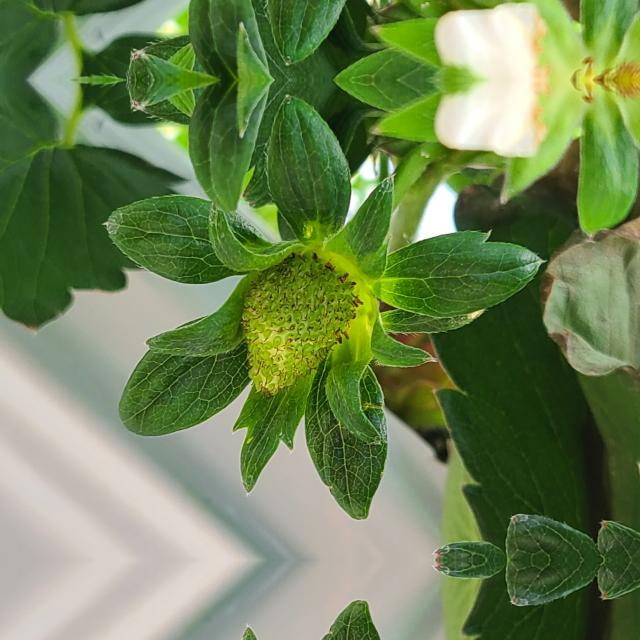Health_25: (241, 252, 355, 396)
